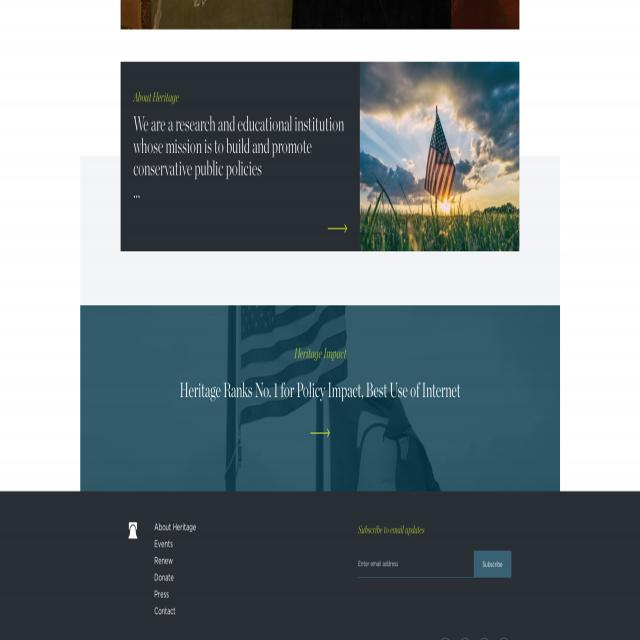button: (80, 306, 560, 491), (120, 62, 519, 250), (474, 551, 512, 578), (123, 516, 142, 547)
field: (358, 551, 474, 578)
